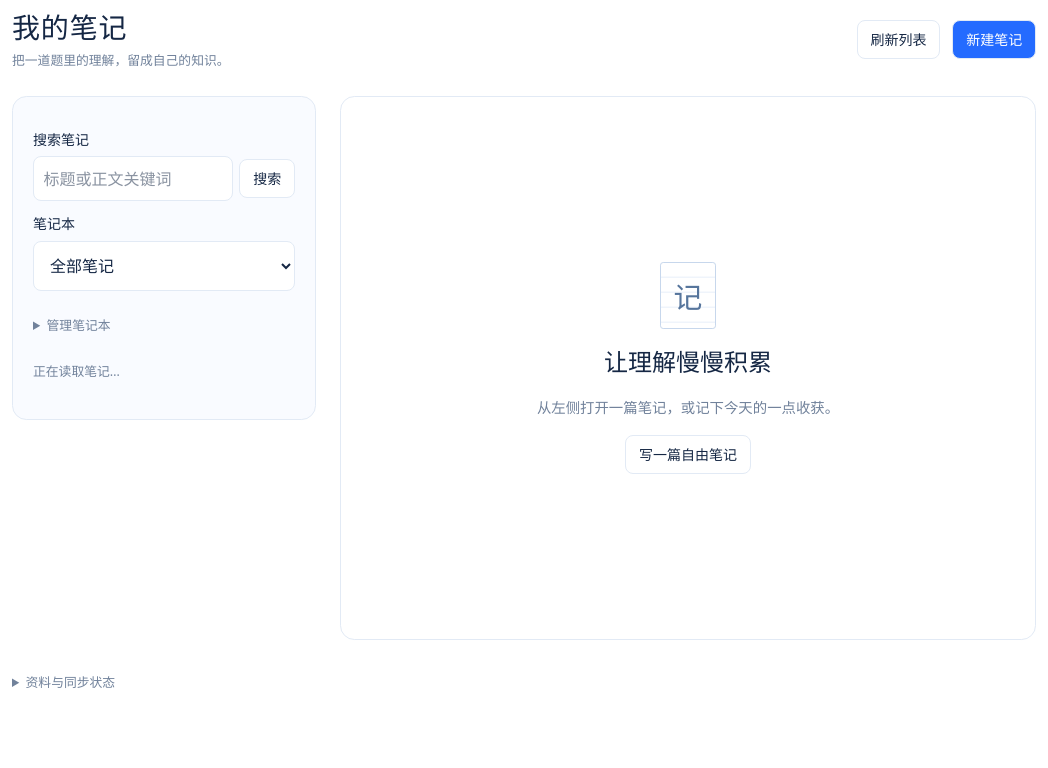
NotesWorkspace › retains later edits when the PUT after creation returns 412
Click the button "新建笔记". click: (994, 40)
box: 952,20 -> 1036,59
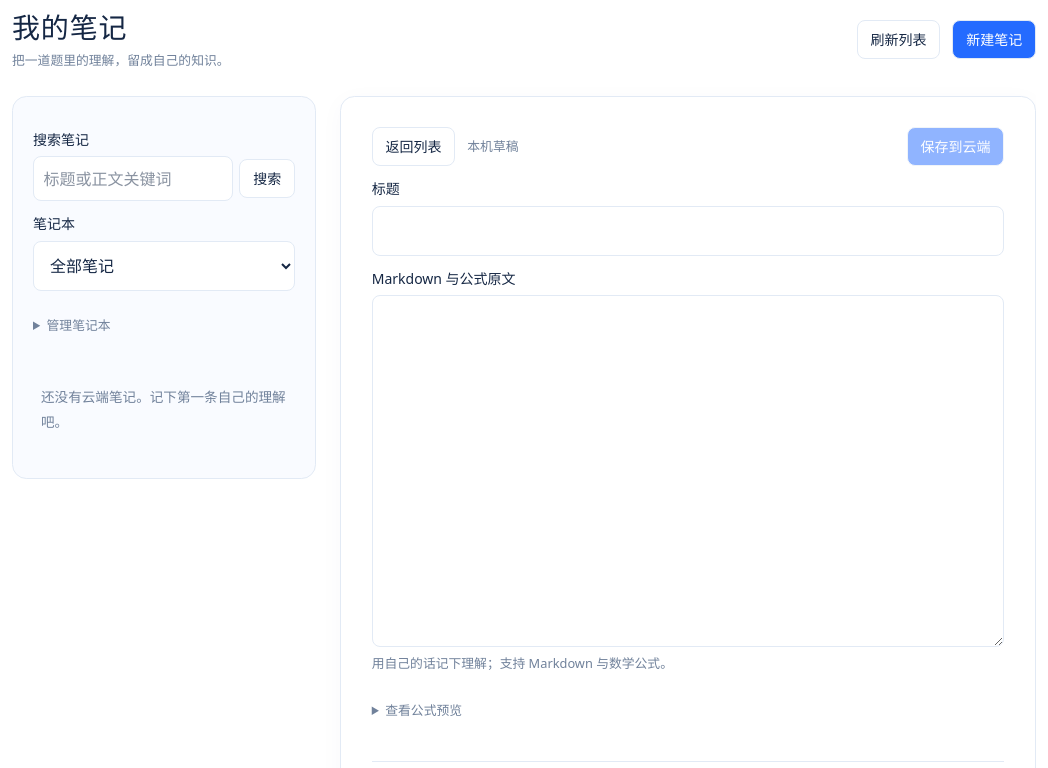
expect the field labelled "标题" is shown: met
Type "原稿" into the field labelled "标题". click: (688, 231)
box: 372,206 -> 1004,256
Type "原正文" into the text box labelled "Markdown 与公式原文". click: (688, 471)
box: 372,295 -> 1004,647
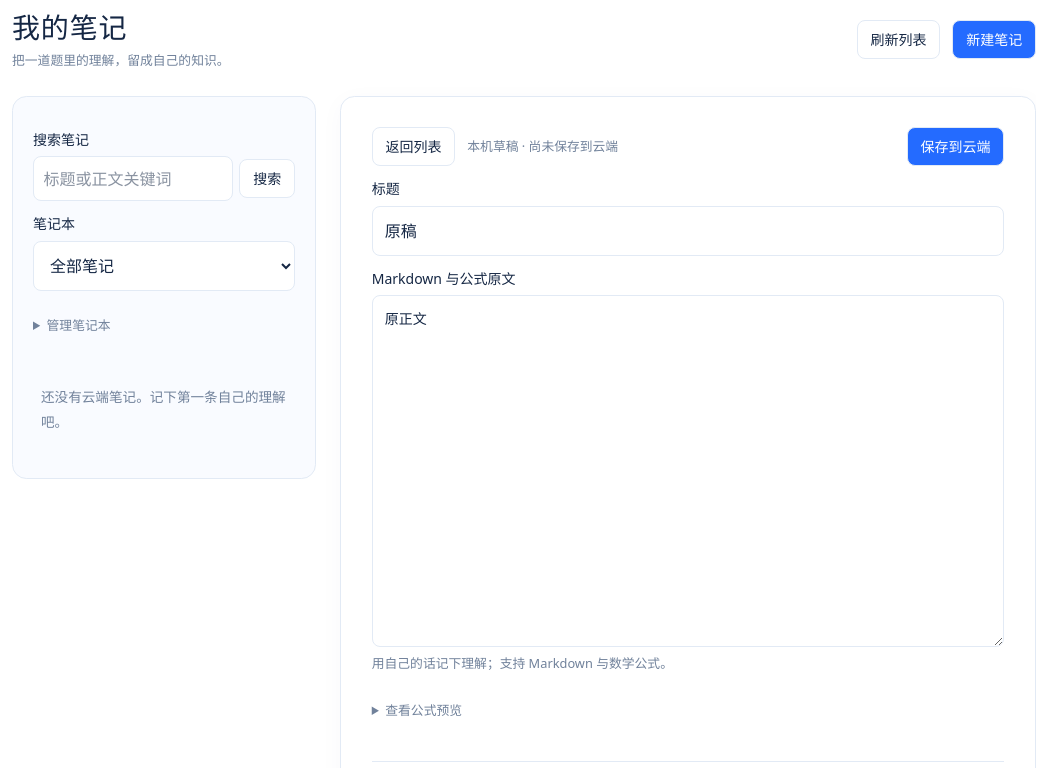
Click the button "保存到云端". click: (956, 147)
box: 907,128 -> 1004,166
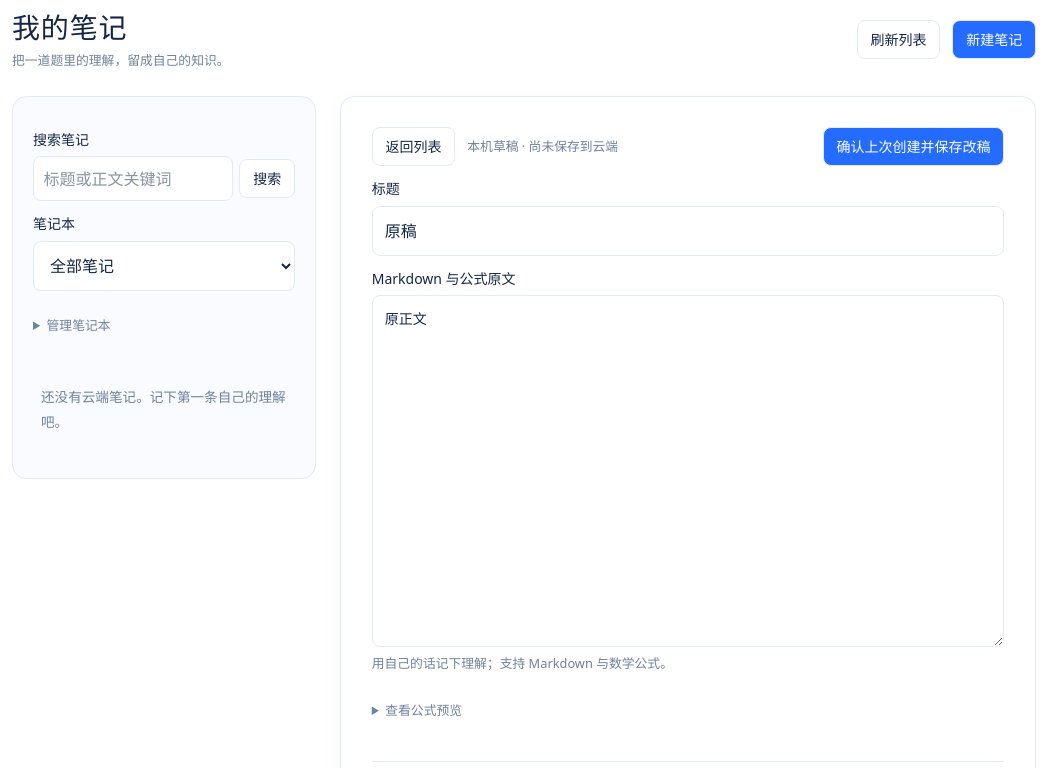
expect the button "确认上次创建并保存改稿" is shown: met, box 823,128 -> 1004,166
Replace the text in the field labelled "标题" with "改稿". click: (688, 231)
box: 372,206 -> 1004,256
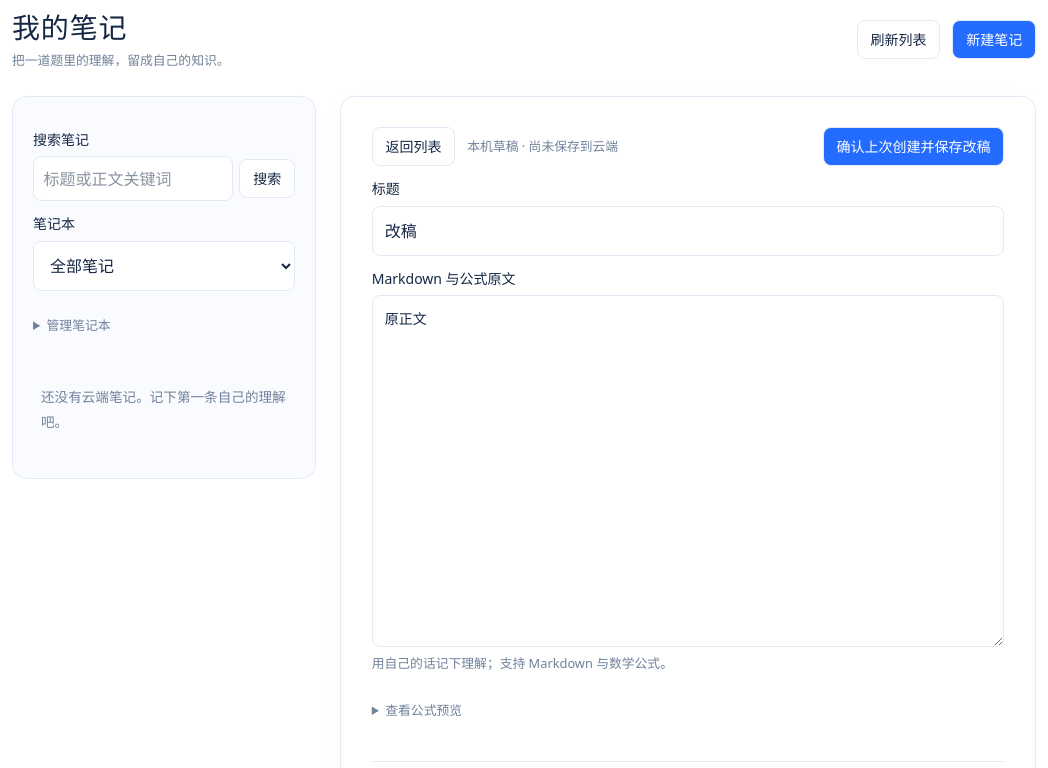
Replace the text in the text box labelled "Markdown 与公式原文" with "改正文". click: (688, 471)
box: 372,295 -> 1004,647
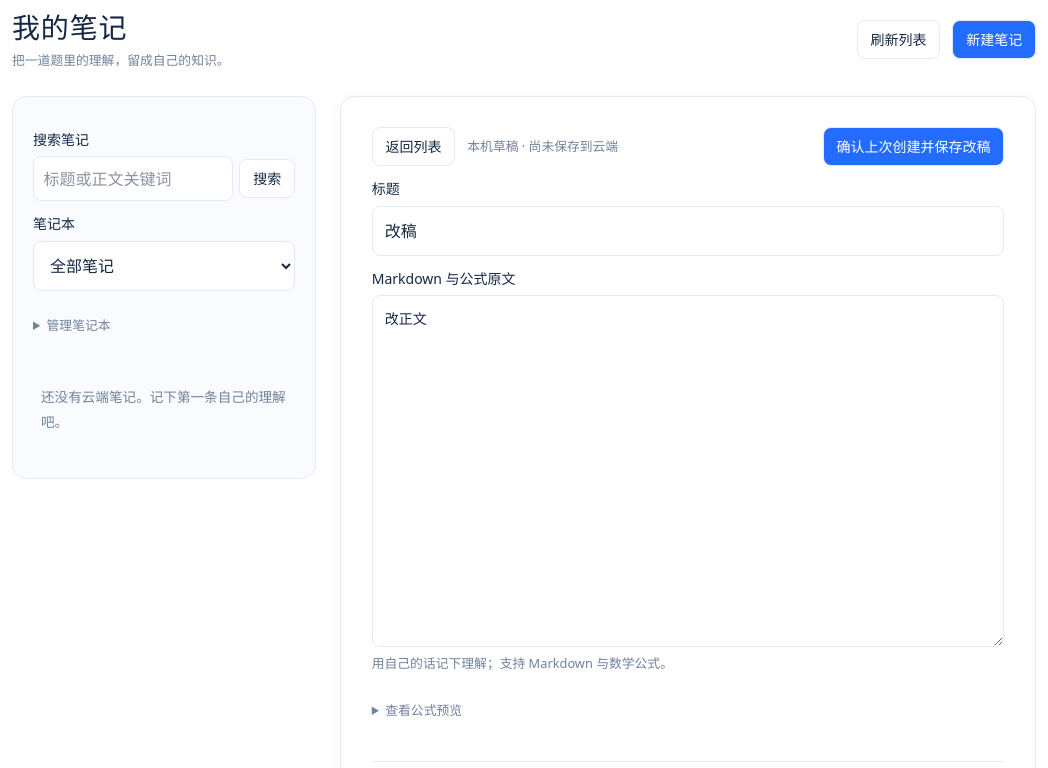
Click the button "确认上次创建并保存改稿". click: (914, 147)
box: 823,128 -> 1004,166
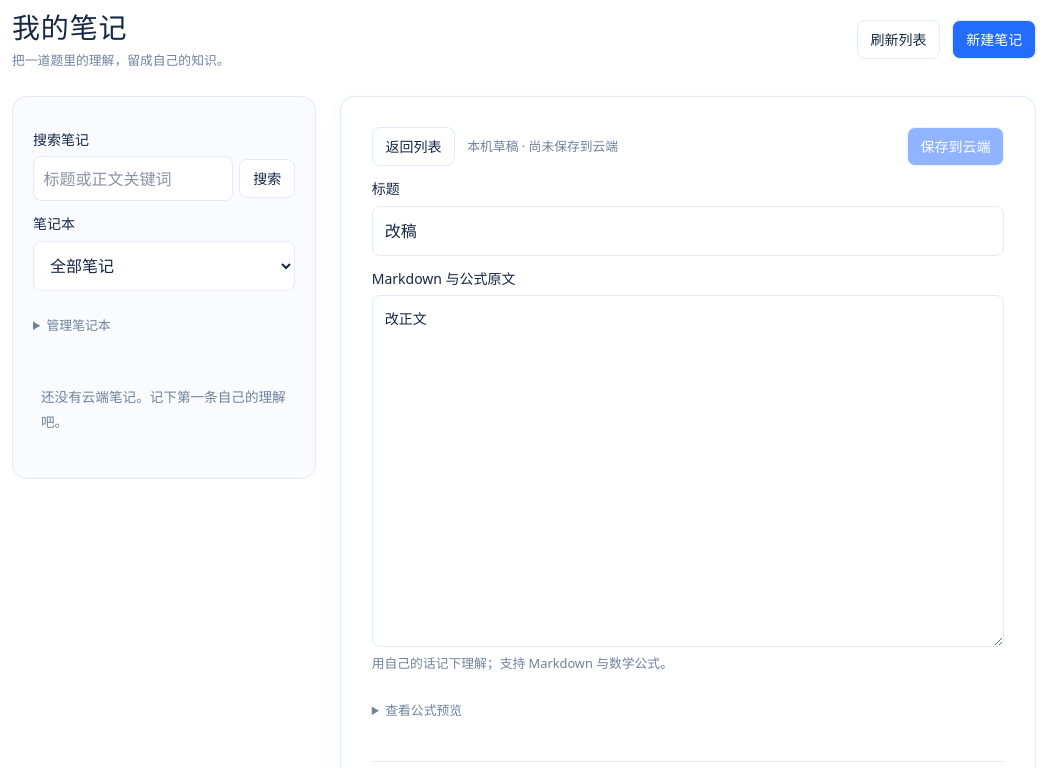
expect the button "保存到云端" is disabled: met, box 907,128 -> 1004,166
